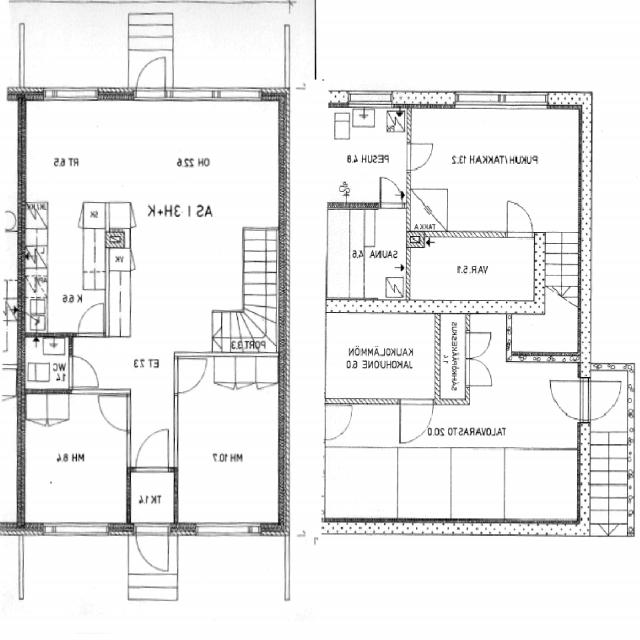door: (546, 380, 593, 421), (580, 380, 627, 421), (136, 522, 168, 574), (400, 399, 433, 444), (313, 406, 356, 440), (136, 428, 169, 472), (136, 54, 165, 100), (175, 358, 208, 393), (99, 396, 131, 430), (69, 355, 99, 386), (78, 302, 104, 337), (508, 202, 533, 238), (380, 174, 403, 208), (464, 332, 492, 359), (406, 144, 434, 170), (464, 359, 492, 385)
